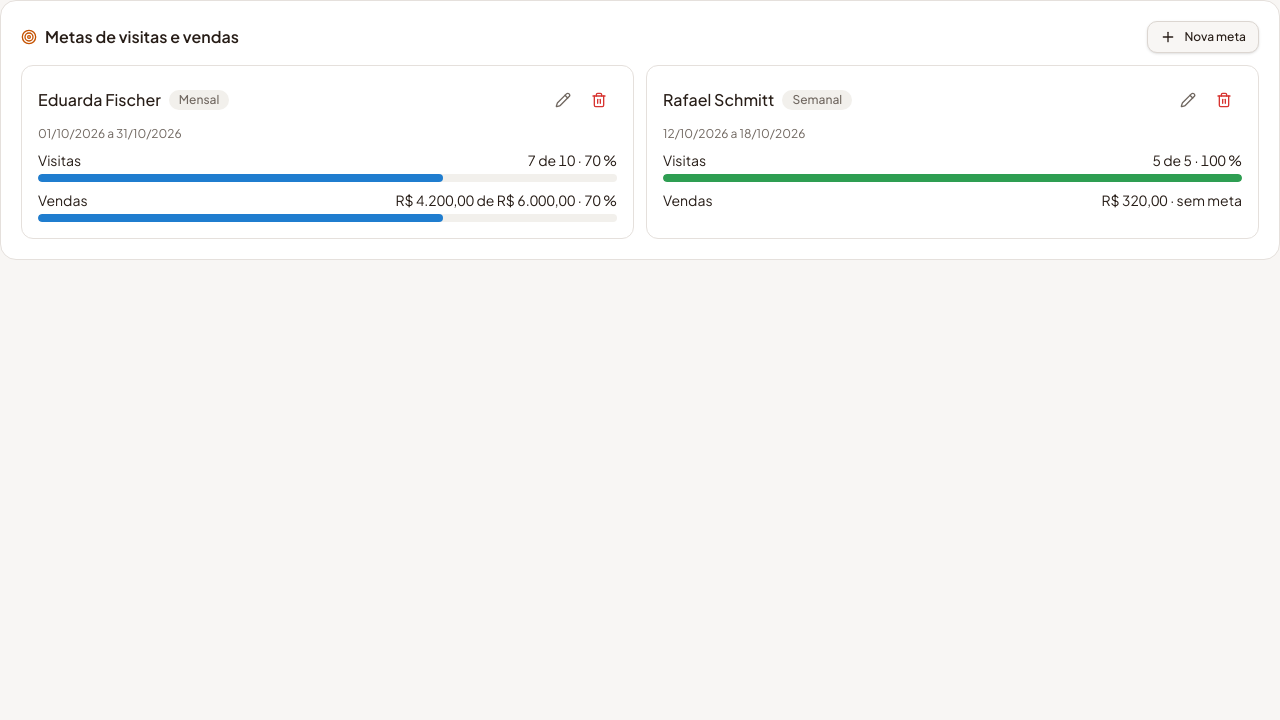
Test case: MetasPanel — criar, editar e excluir (gestor) › sem escolher o representante, mostra "Escolha um representante." junto do campo e não envia
Click the button "Nova meta" at (1203, 37), box [1147,21,1259,53]
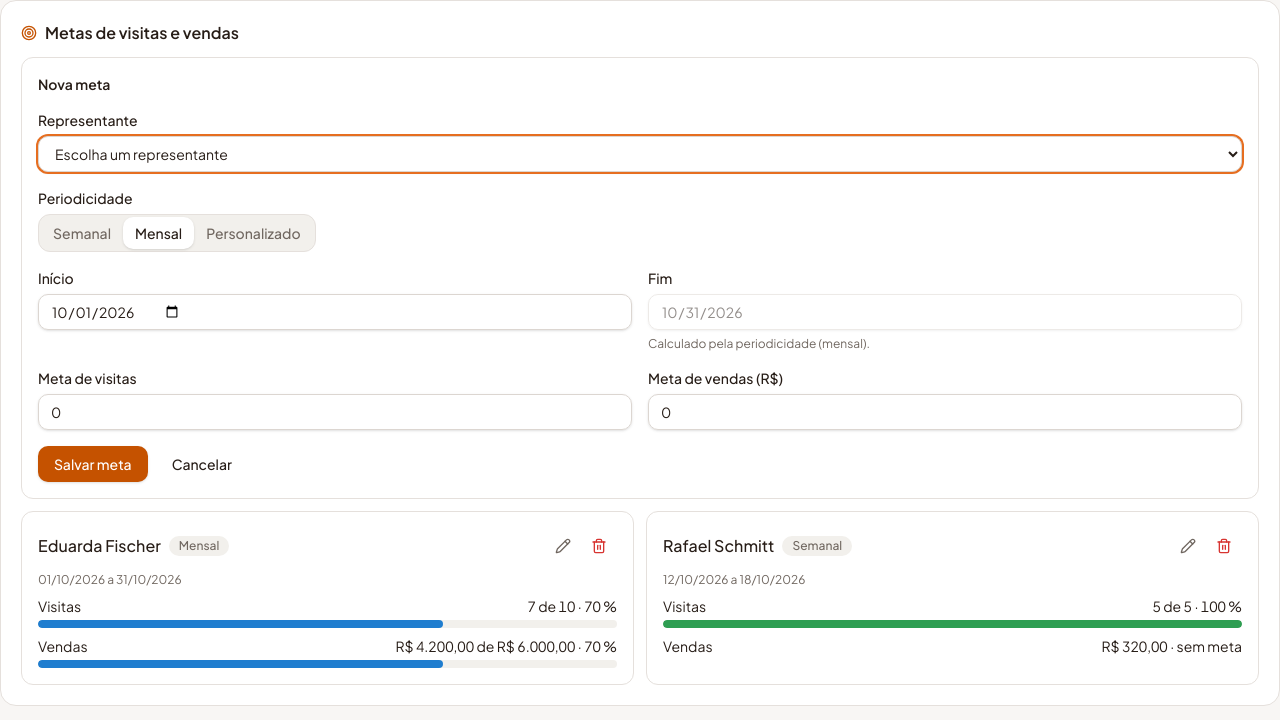
Click the button "Salvar meta" at (93, 464), box [38,446,148,482]
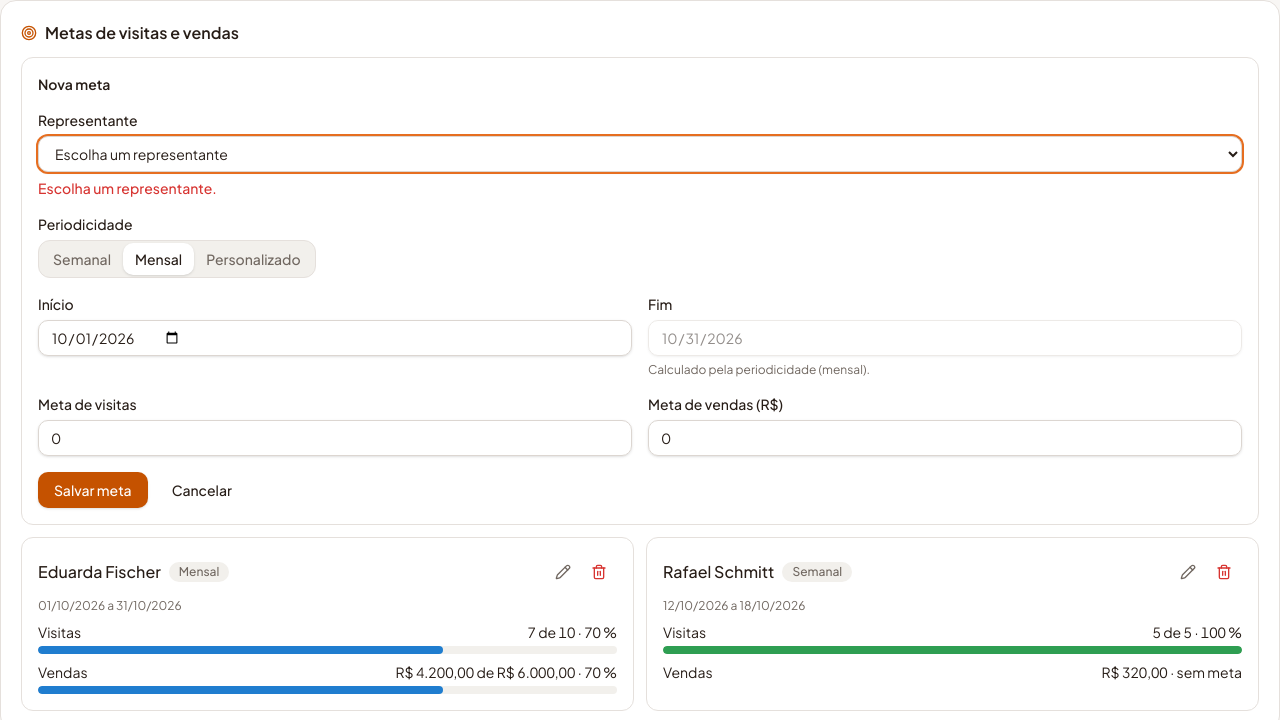
Result: the text "Escolha um representante." is shown at [38,179,217,197]
